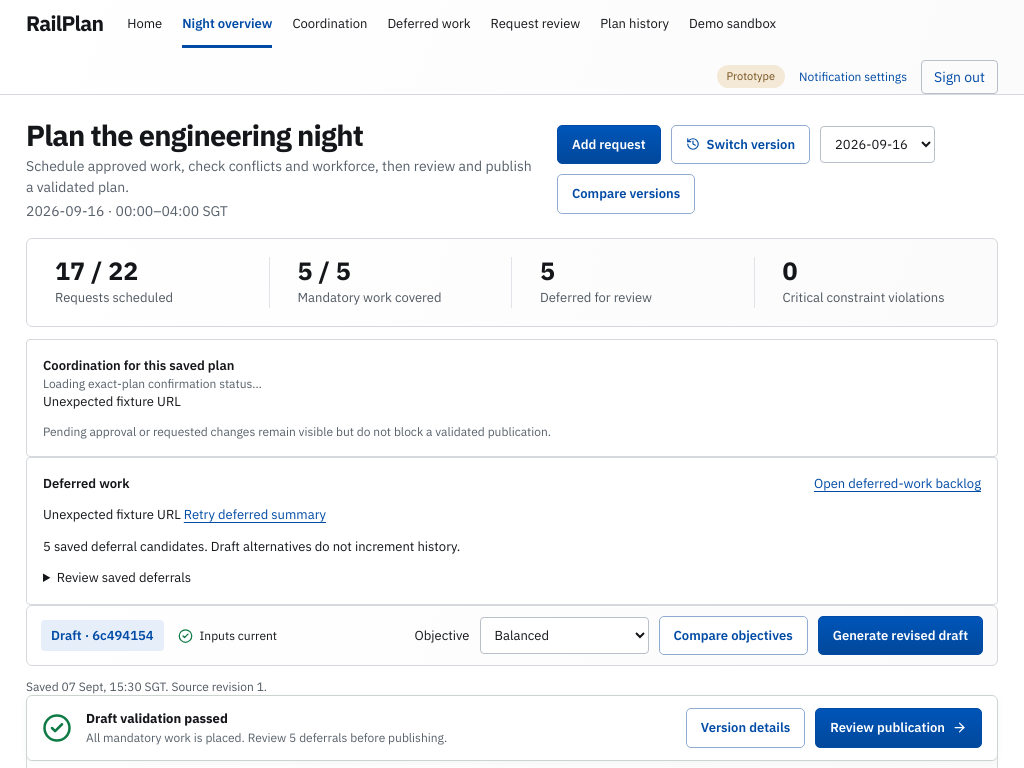
the real saved-plan workspace aborts an old export when the selected version changes
This screenshot has width=1024, height=768.
Click the button "Version details" at (746, 727), box [686,708,805,747]
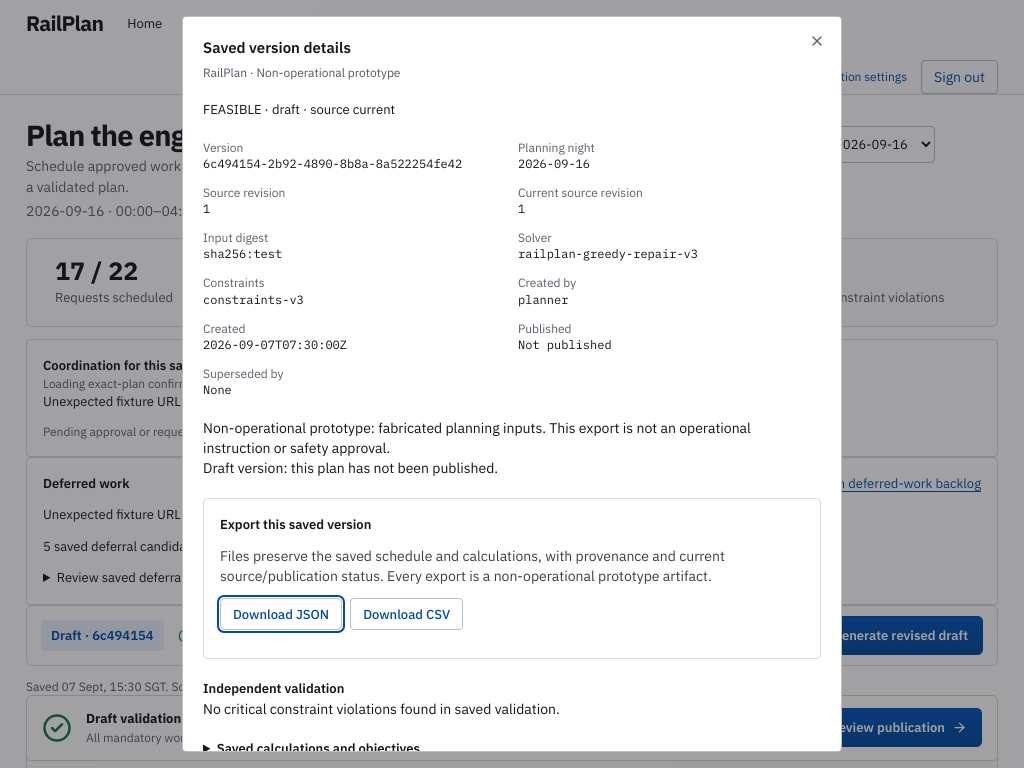
Click the button "Download JSON" at (281, 614), box [220,598,342,630]
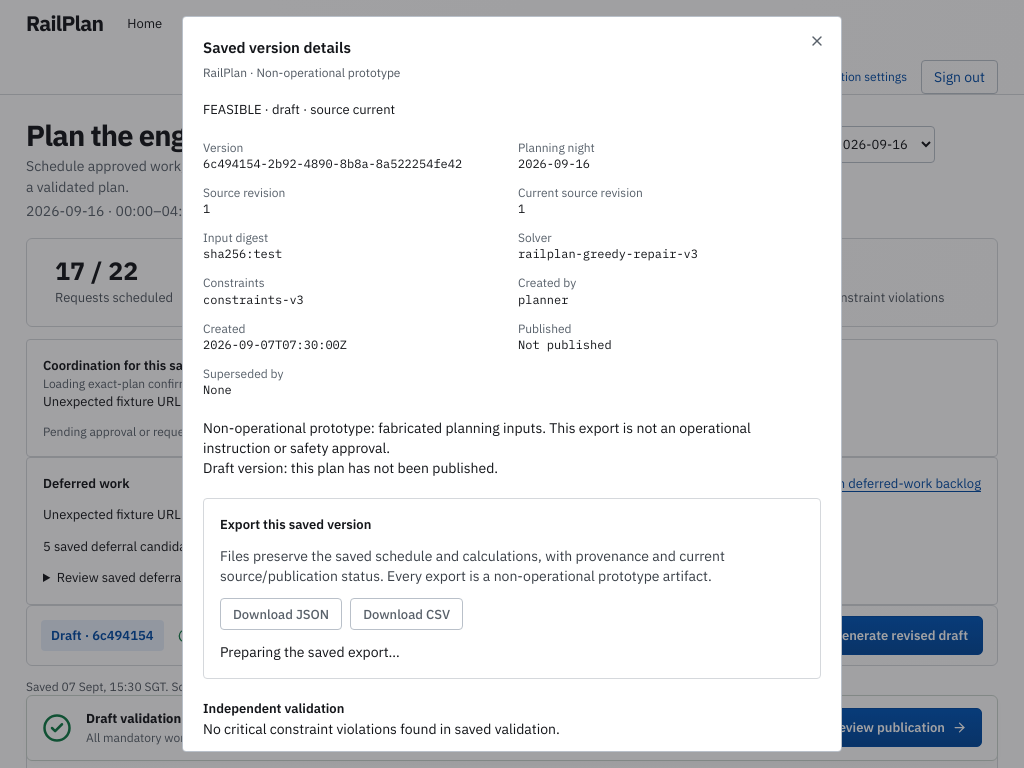
Click the button named "Close" at (817, 41), box [805,29,829,53]
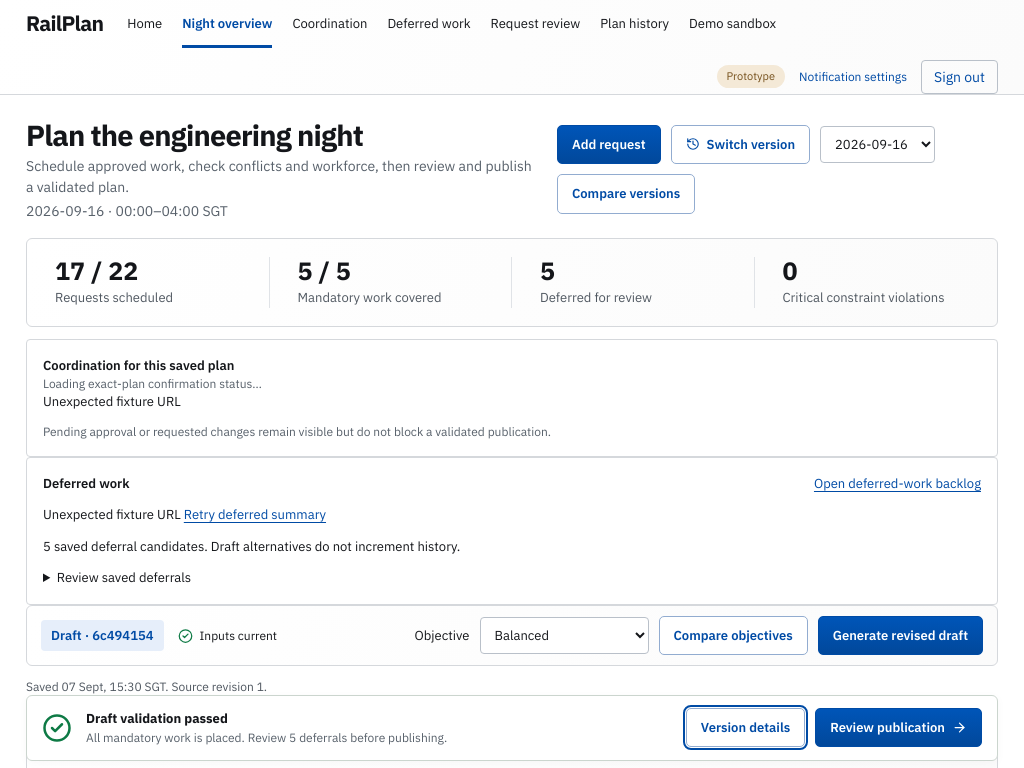
Click the button "Switch version" at (740, 144), box [671,125,810,164]
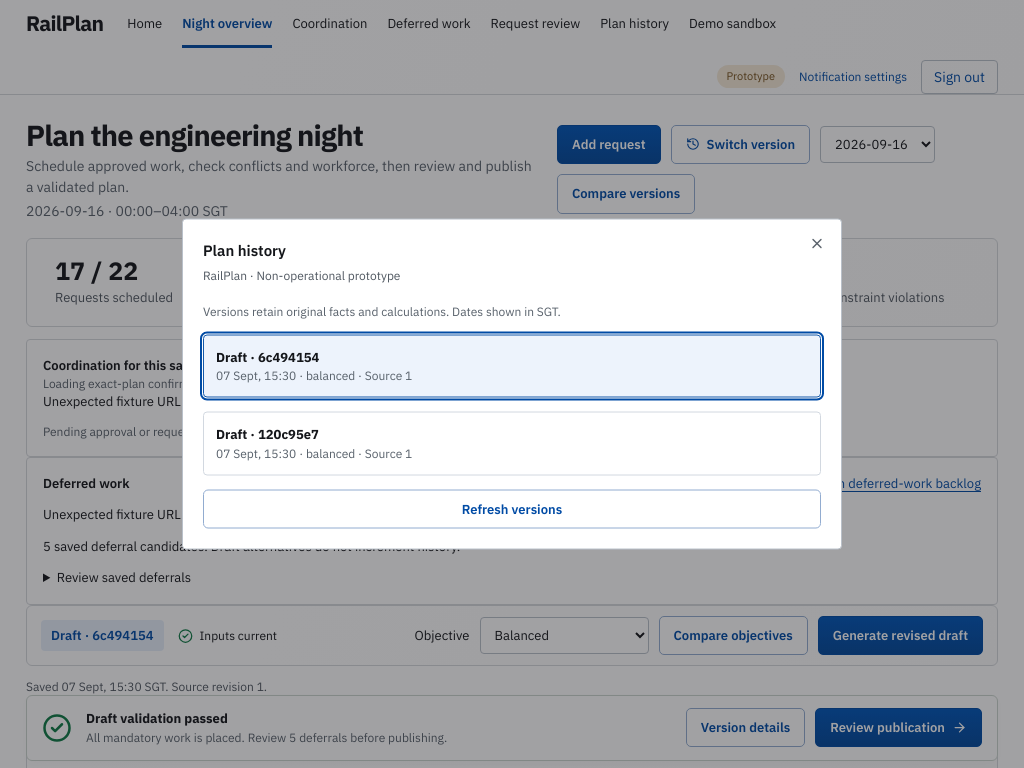
Click the button "Draft · 120c95e7 07 Sept, 15:30 · balanced · Source 1" at (267, 434), box [203,412,821,475]
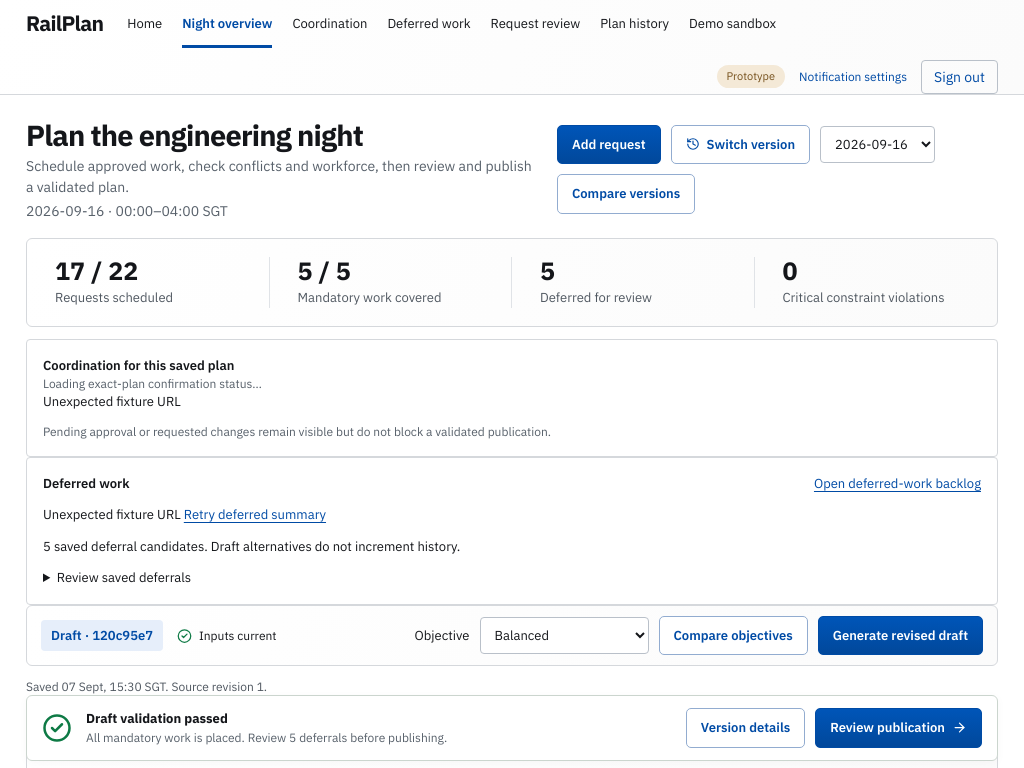
Click the button "Version details" at (746, 727), box [686,708,805,747]
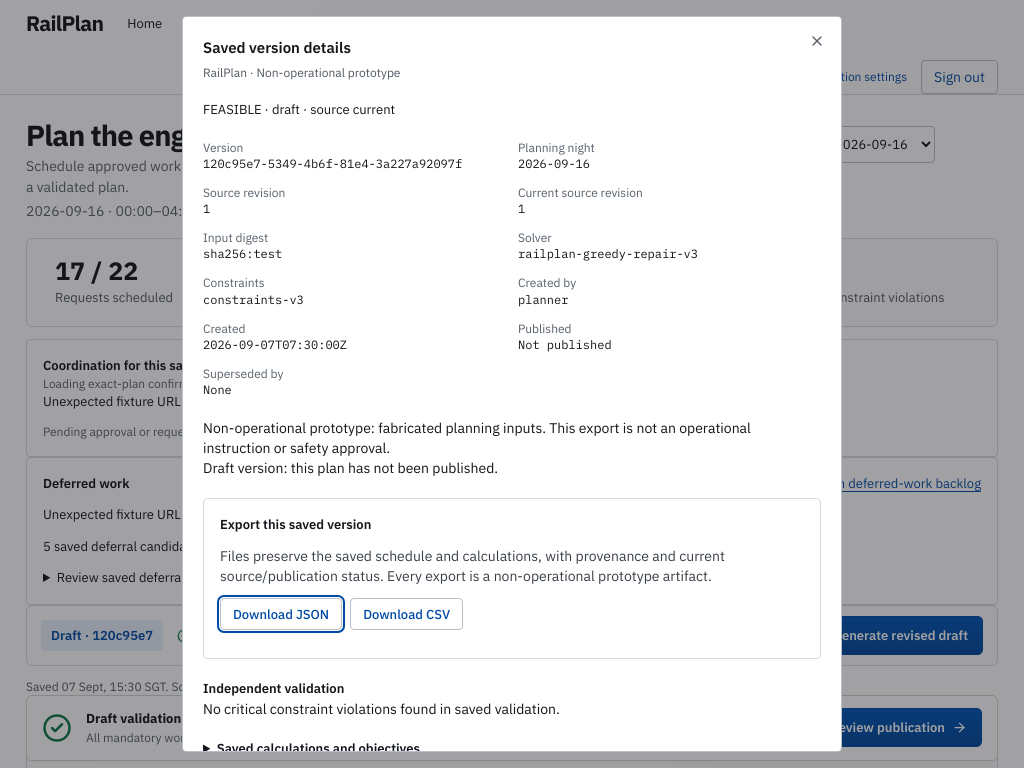
Expected: the text "120c95e7-5349-4b6f-81e4-3a227a92097f" is shown, [203,156,506,172]
Expected: the button "Download CSV" is enabled, [350,598,463,630]
